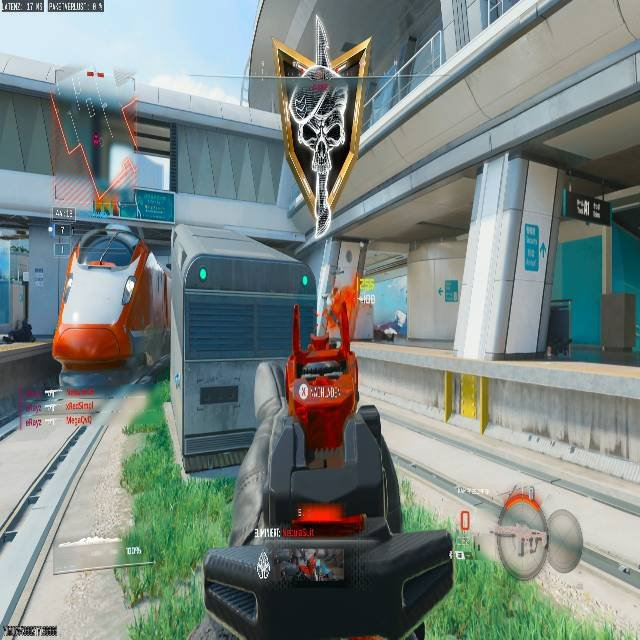head: (272, 0, 640, 244)
